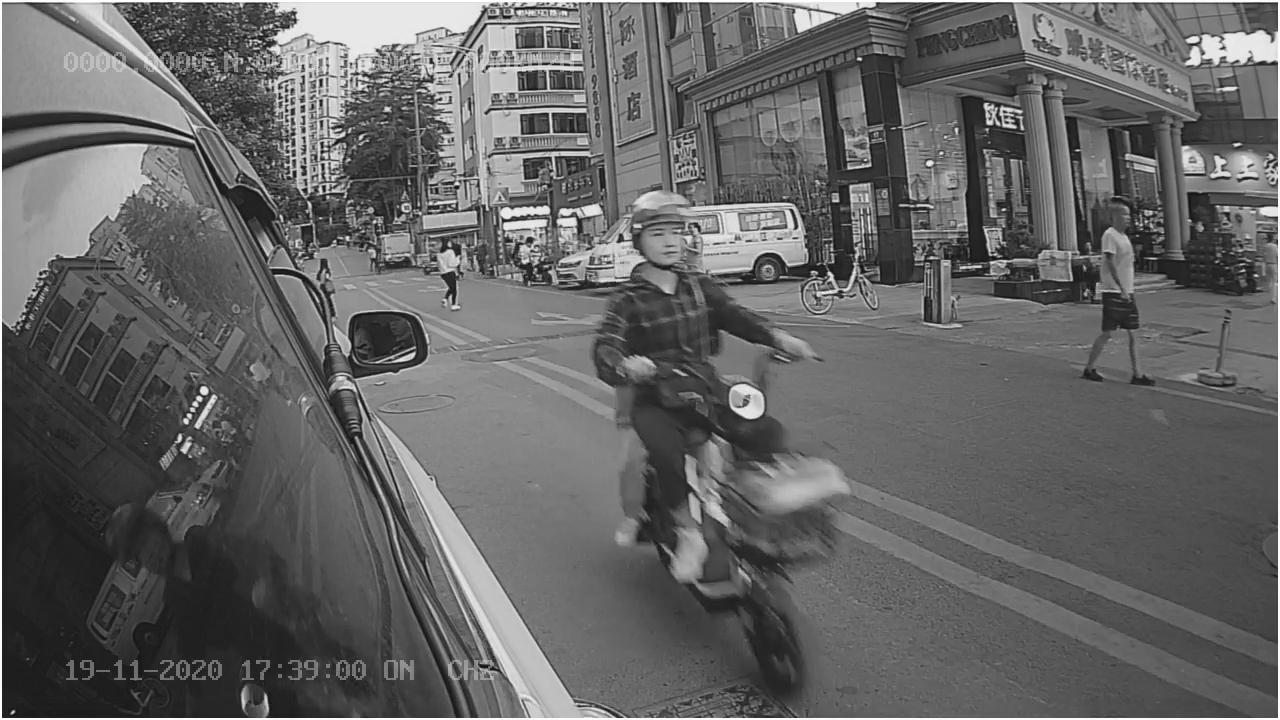person: (595, 195, 743, 413)
